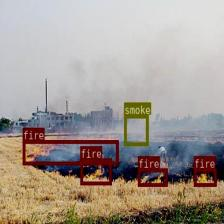fire: (22, 140, 118, 164), (80, 158, 111, 184), (137, 168, 167, 186), (193, 168, 216, 186)
smoke: (124, 114, 148, 146)
